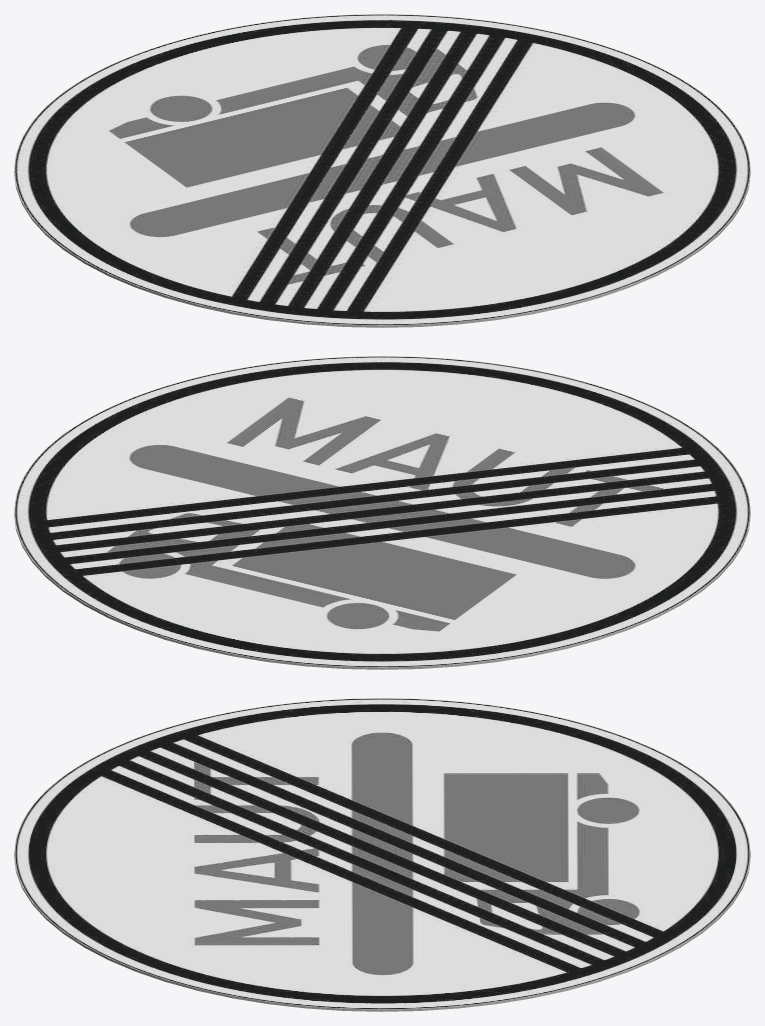
3 views of the same model, one above another, from view 1: azimuth 30°, elevation 25°; view 2: azimuth 150°, elevation 25°; view 3: azimuth 270°, elevation 25° (orthographic).
Visible parts, largest first — view 1: Circle_Schild_Rund; view 2: Circle_Schild_Rund; view 3: Circle_Schild_Rund.
Boxes of the visible parts, x1,y1,x2,y2 form: Circle_Schild_Rund: (14,14,750,327); Circle_Schild_Rund: (14,356,750,669); Circle_Schild_Rund: (14,698,750,1011).
Size of the model in its own units: 0.6 by 0.002 by 0.6.
Materials: 2 (1 with a texture image).
